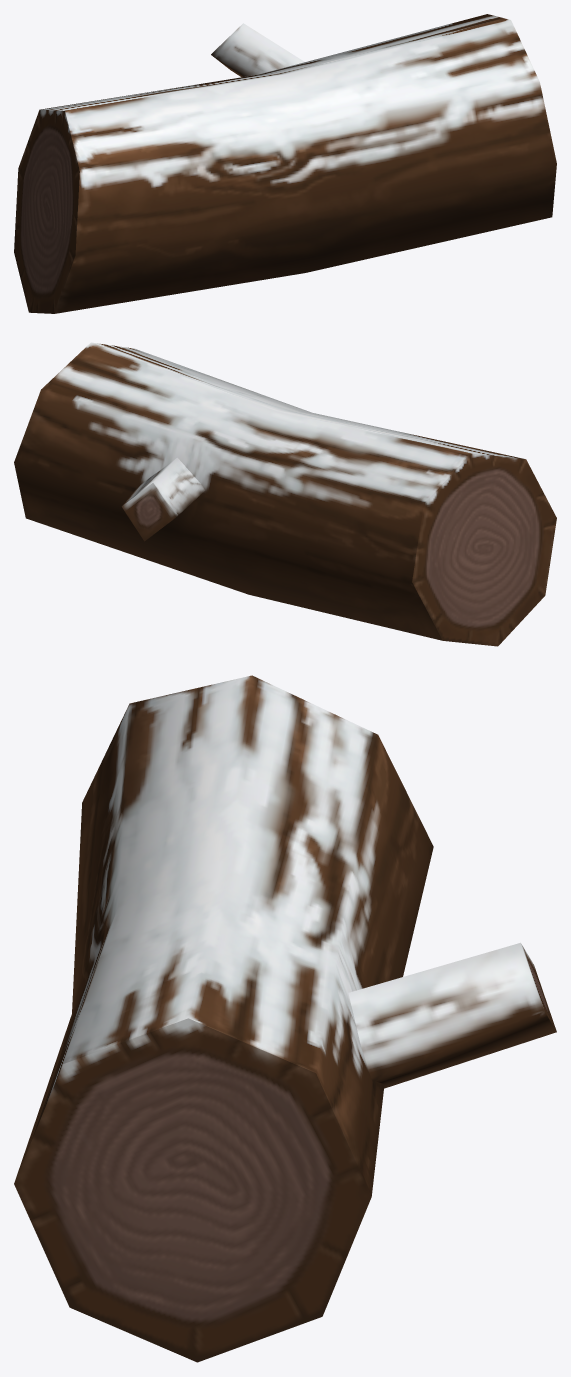
Rendered from SnowTruncatedTree_02_001.FBX.
3 renders of one model, top to bottom at view 1: azimuth 30°, elevation 25°; view 2: azimuth 150°, elevation 25°; view 3: azimuth 270°, elevation 25°, orthographic. The views are drawn at different scales.
Visible parts, largest first — view 1: SnowTruncatedTree_02_001; view 2: SnowTruncatedTree_02_001; view 3: SnowTruncatedTree_02_001.
Boxes of the visible parts, x1,y1,x2,y2 form: SnowTruncatedTree_02_001: [14, 14, 556, 313]; SnowTruncatedTree_02_001: [14, 342, 556, 646]; SnowTruncatedTree_02_001: [14, 675, 556, 1362].
Bounding box in the file's own units: 8.88 × 3.53 × 5.04.
